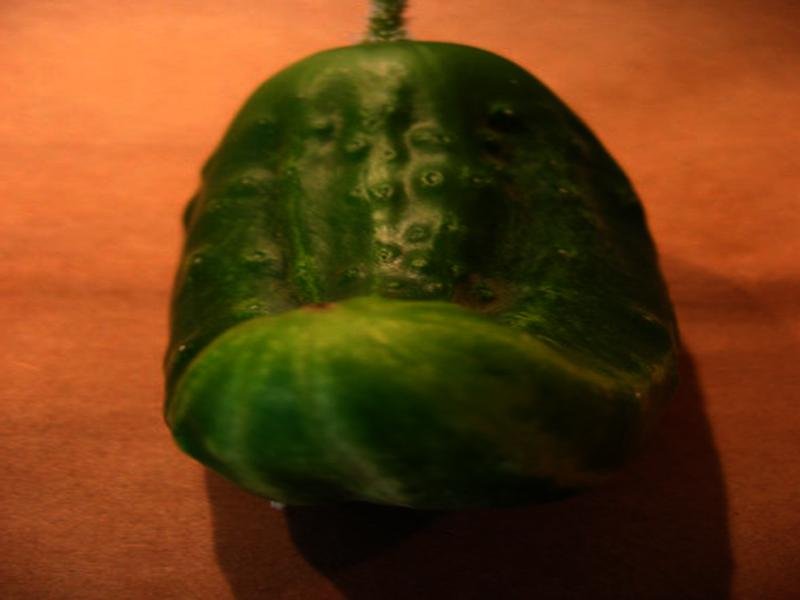Cucumber: (159, 38, 673, 509)
